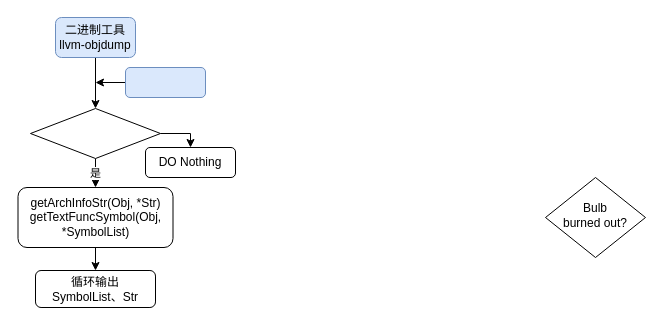
This 663x325 diagram has some shape labels left out. The centre of each missing label's shape, as x and y in pixels:
"CNBin 文件" goes at (165,82).
"isBangCNBin(Obj)" goes at (95,133).
